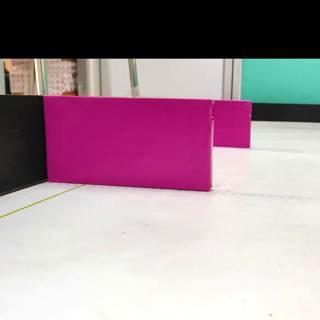xparking: (47, 98, 211, 190), (214, 101, 251, 147)
